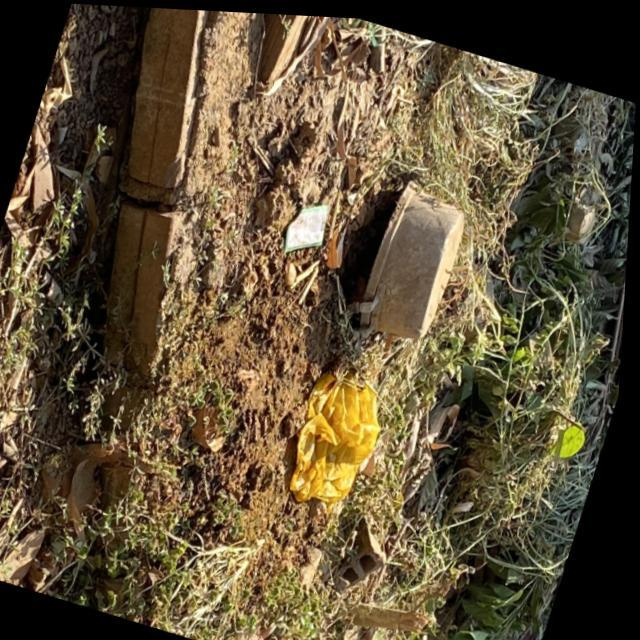clothes: (324, 160, 485, 354)
leaf: (269, 181, 337, 264)
metal: (261, 332, 411, 522)
